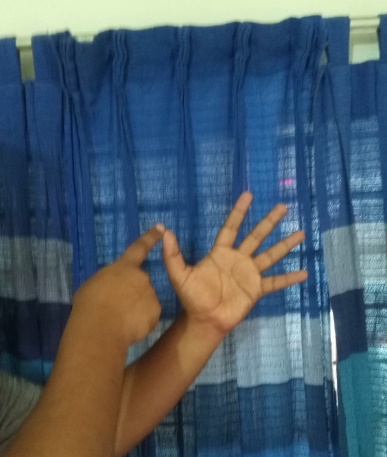a: (122, 191, 310, 328)
